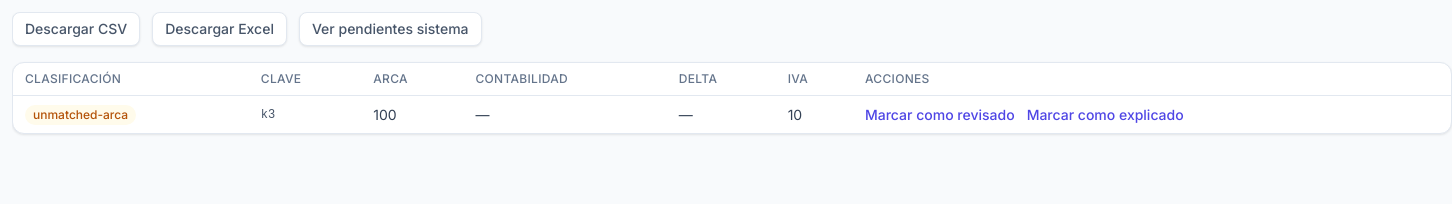
Test case: T13: ReportViewer › shows the API error message when the mark request fails
The image size is (1452, 204).
Click the button "Marcar como revisado".
click(940, 114)  # box 865,104 -> 1015,124
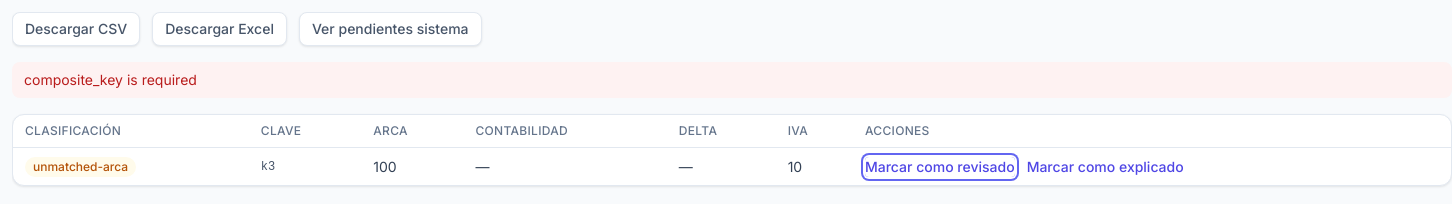
Expected: the message reads "composite_key is required", 24,71 -> 197,88
